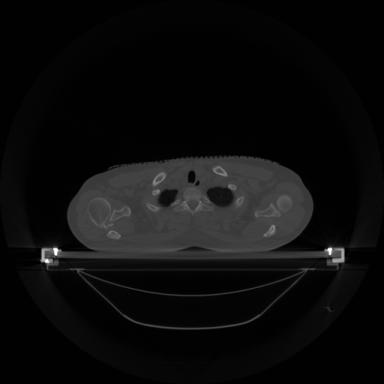body: (68, 157, 313, 252)
cord: (183, 188, 202, 212)
paru kanan: (158, 189, 177, 207)
paru kiri: (207, 187, 233, 206)
